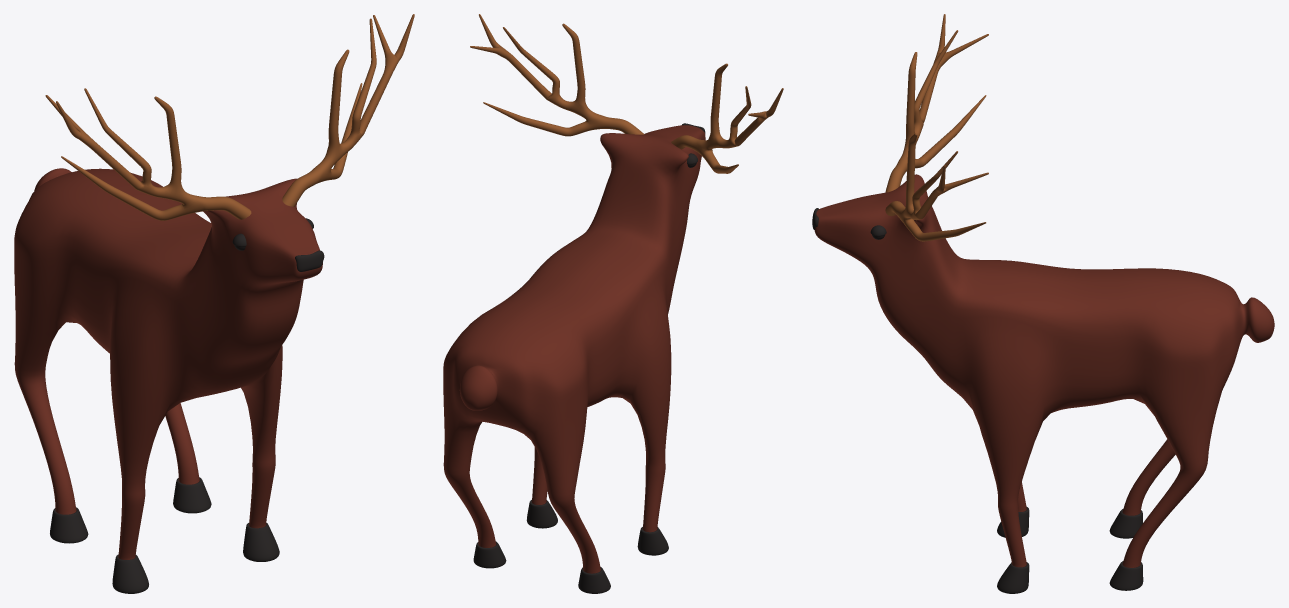
The model's file is red-deer-3d-icon-368293787005.glb.
The picture shows the model from 3 angles, left to right: view 1: azimuth 30°, elevation 25°; view 2: azimuth 150°, elevation 25°; view 3: azimuth 270°, elevation 25°; orthographic projection. The views are drawn at different scales.
Parts seen in each view (by area): view 1: Body, Horn, Feet; view 2: Body, Horn, Feet; view 3: Body, Horn, Feet.
Part boxes in pixels (x1,y1,x2,y2): Body: (14, 168, 322, 559); Horn: (45, 14, 414, 220); Feet: (50, 477, 279, 593); Body: (443, 125, 705, 573); Horn: (470, 14, 783, 173); Feet: (473, 500, 668, 593); Body: (814, 174, 1274, 567); Horn: (885, 14, 988, 241); Feet: (997, 506, 1143, 593).
Size of the model in its own units: 1.35 by 1.95 by 1.74.
